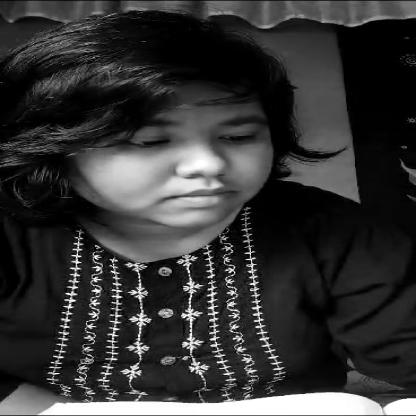Distracted: (27, 34, 305, 235)
